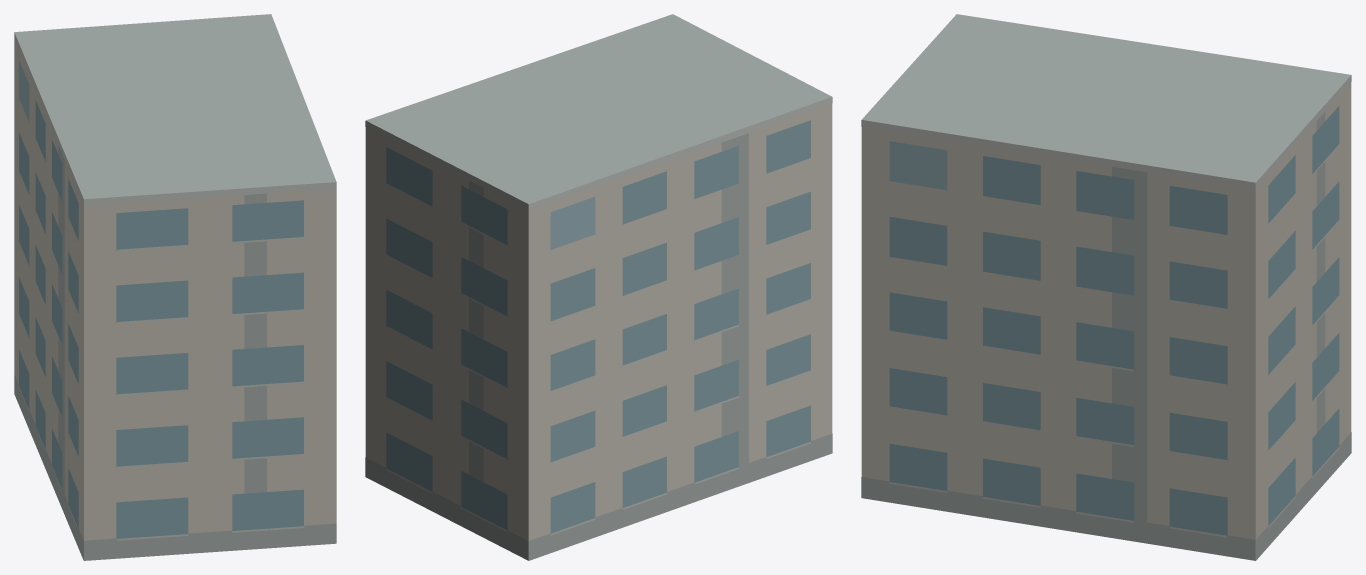
Rendered from survey-upis-32933143.glb.
3 renders of one model, left to right at view 1: azimuth 30°, elevation 25°; view 2: azimuth 150°, elevation 25°; view 3: azimuth 270°, elevation 25°, orthographic. The views are drawn at different scales.
Parts seen in each view (by area): view 1: survey-upis-32933143.tmp; view 2: survey-upis-32933143.tmp; view 3: survey-upis-32933143.tmp.
Boxes of the visible parts, left/top/right/bottom form: survey-upis-32933143.tmp: left=14, top=14, right=336, bottom=560; survey-upis-32933143.tmp: left=365, top=14, right=832, bottom=560; survey-upis-32933143.tmp: left=861, top=14, right=1351, bottom=560.
Size of the model in its own units: 12.54 by 13.1 by 15.39.
